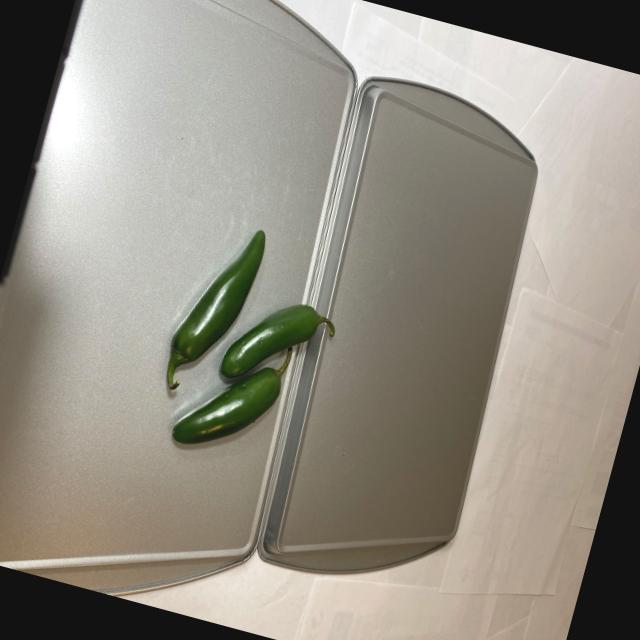chilli: (144, 208, 360, 478)
